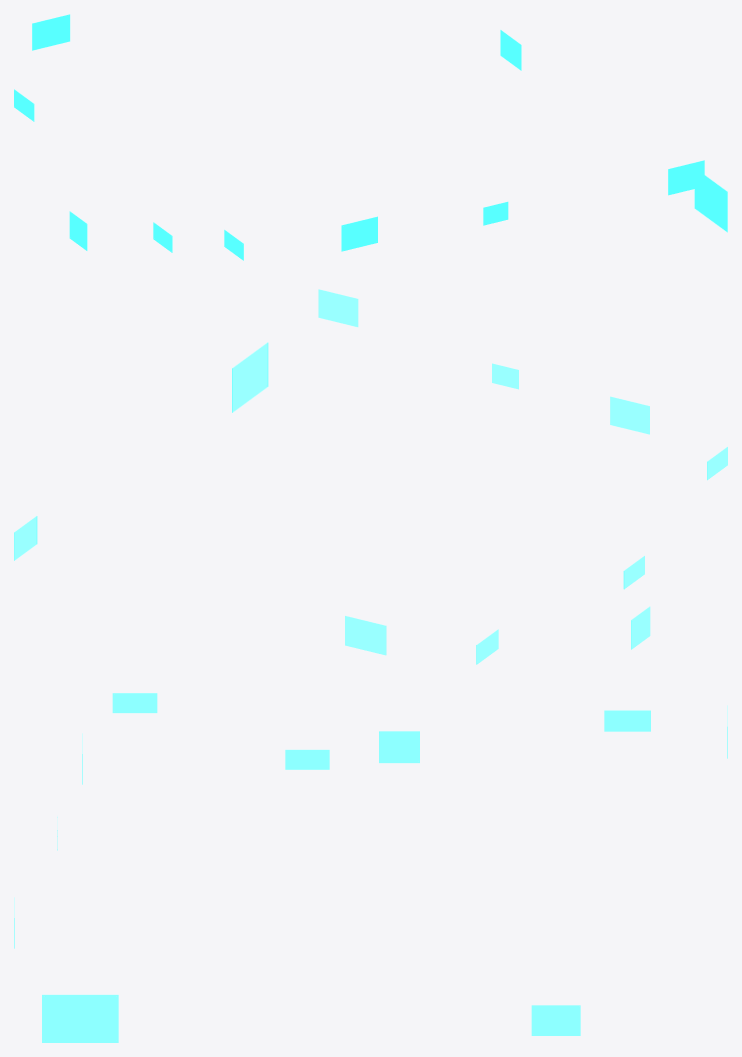
Rendered from Glass.fbx.
3 views of the same model, one above another, from view 1: azimuth 30°, elevation 25°; view 2: azimuth 150°, elevation 25°; view 3: azimuth 270°, elevation 25° (orthographic). The views are drawn at different scales.
Visible parts, largest first — view 1: Glass; view 2: Glass; view 3: Glass.
Part boxes in pixels (box(x1,y1,x2,y2)): Glass: box(14, 14, 727, 260); Glass: box(14, 289, 727, 664); Glass: box(14, 693, 727, 1042).
Size of the model in its own units: 3021 by 551 by 3196.
